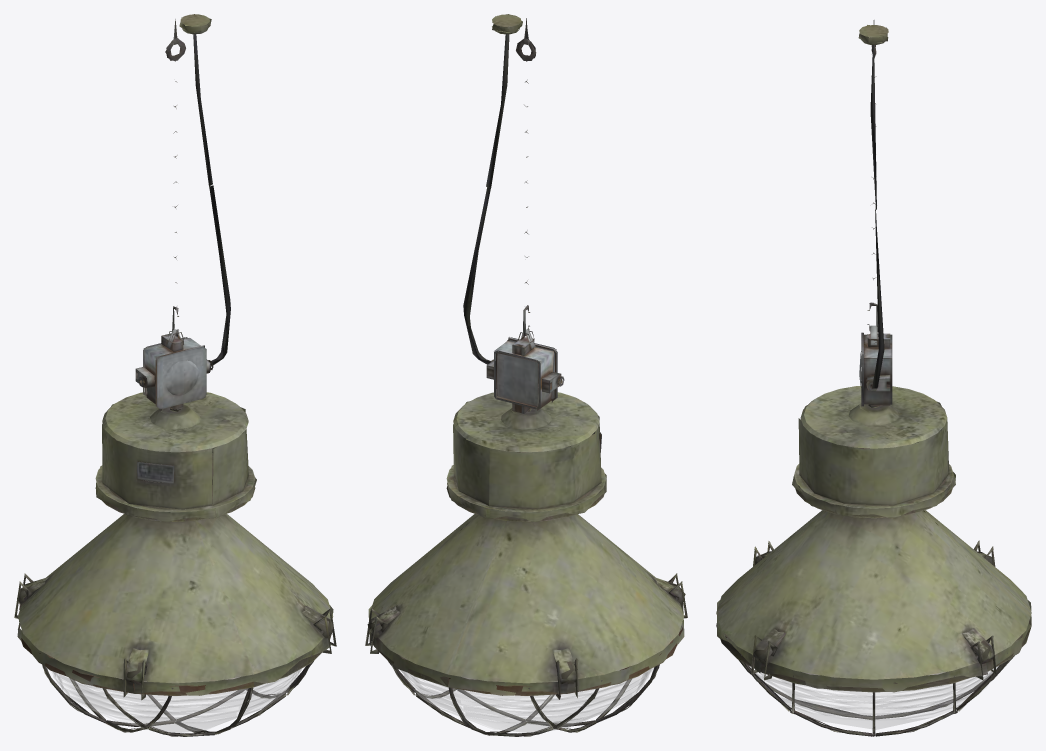
File: hanging_industrial_lamp.glb
3 views of the same model, side by side, from view 1: azimuth 30°, elevation 25°; view 2: azimuth 150°, elevation 25°; view 3: azimuth 270°, elevation 25° (orthographic).
Parts seen in each view (by area): view 1: hanging_industrial_lamp; view 2: hanging_industrial_lamp; view 3: hanging_industrial_lamp.
Part boxes in pixels (bbox=[...]): hanging_industrial_lamp: bbox=[14, 14, 336, 736]; hanging_industrial_lamp: bbox=[365, 14, 687, 736]; hanging_industrial_lamp: bbox=[716, 20, 1031, 736].
Size of the model in its own units: 0.5496 by 1.36 by 0.5496.
2 materials, 1 textured.
